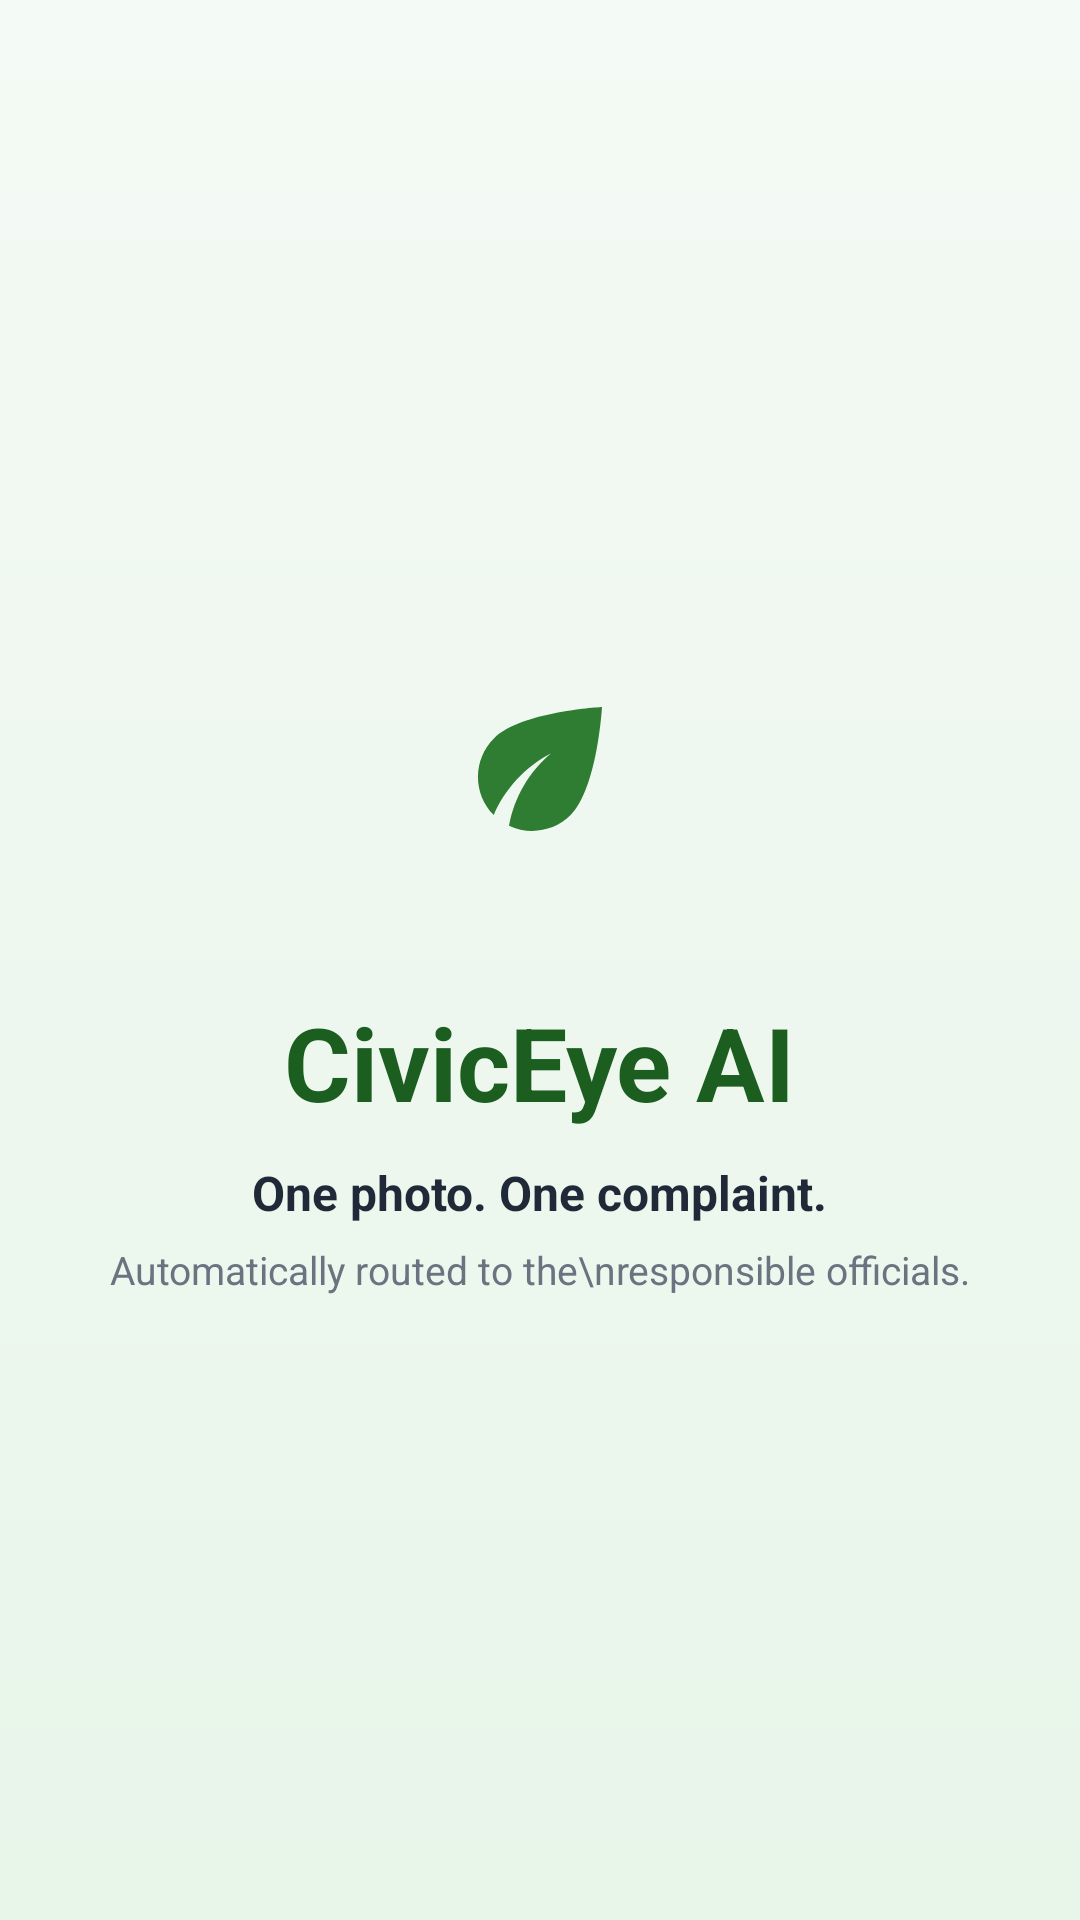

Named icons in this screenshot (1080px×1920px) and their centers, [x,y]:
leaf: [540,769]
